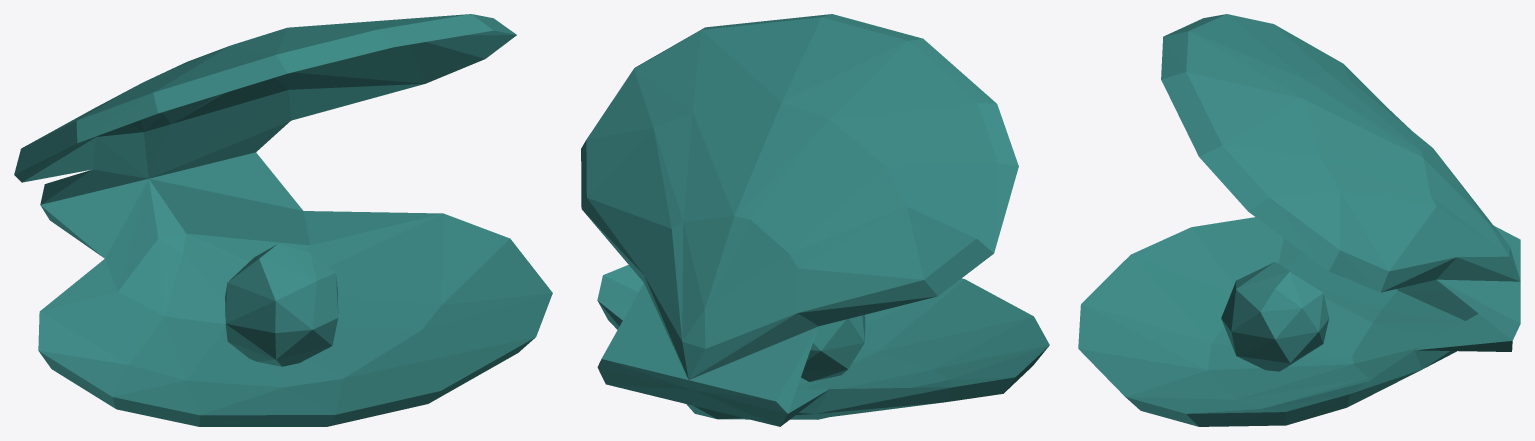
File: SM_Sea_Shell_Scallop_Open_Pearl_A.fbx
The picture shows the model from 3 angles, left to right: view 1: azimuth 30°, elevation 25°; view 2: azimuth 150°, elevation 25°; view 3: azimuth 270°, elevation 25°; orthographic projection. The views are drawn at different scales.
Parts seen in each view (by area): view 1: sea-shell-scallop-open-pearl-a; view 2: sea-shell-scallop-open-pearl-a; view 3: sea-shell-scallop-open-pearl-a.
Part boxes in pixels (left/top/right/bottom): sea-shell-scallop-open-pearl-a: left=14, top=14, right=552, bottom=426; sea-shell-scallop-open-pearl-a: left=581, top=14, right=1049, bottom=426; sea-shell-scallop-open-pearl-a: left=1078, top=14, right=1520, bottom=426.
Size of the model in its own units: 0.1651 by 0.1223 by 0.1545.
